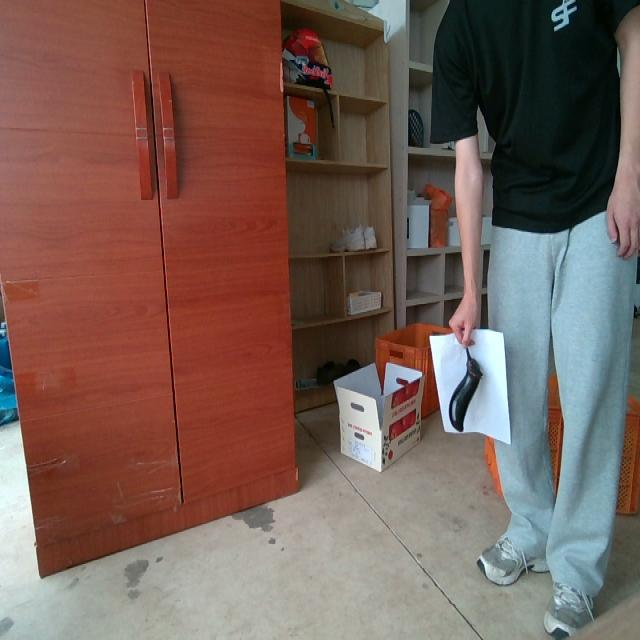Egg plant: (449, 348, 482, 431)
